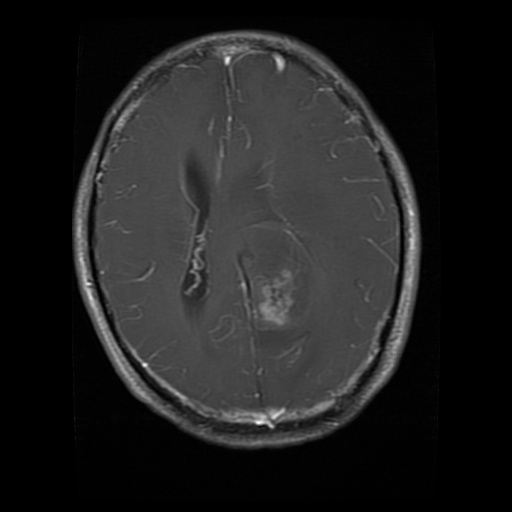glioma: (237, 256, 303, 338)
